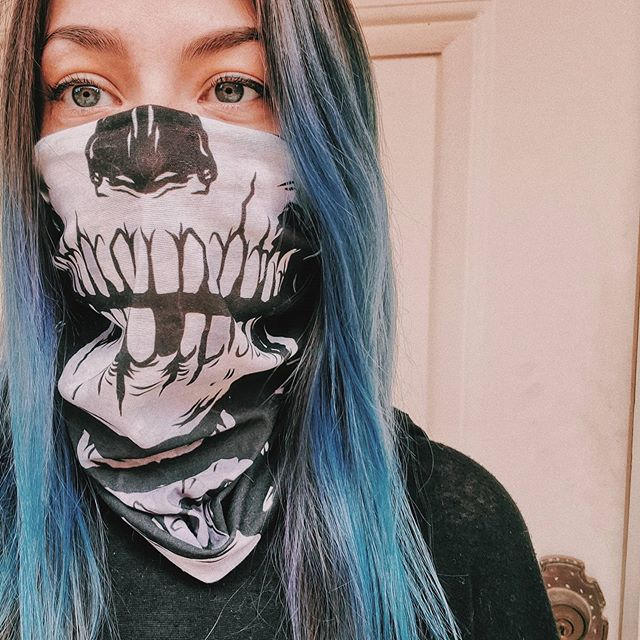homemade: (1, 110, 367, 569)
